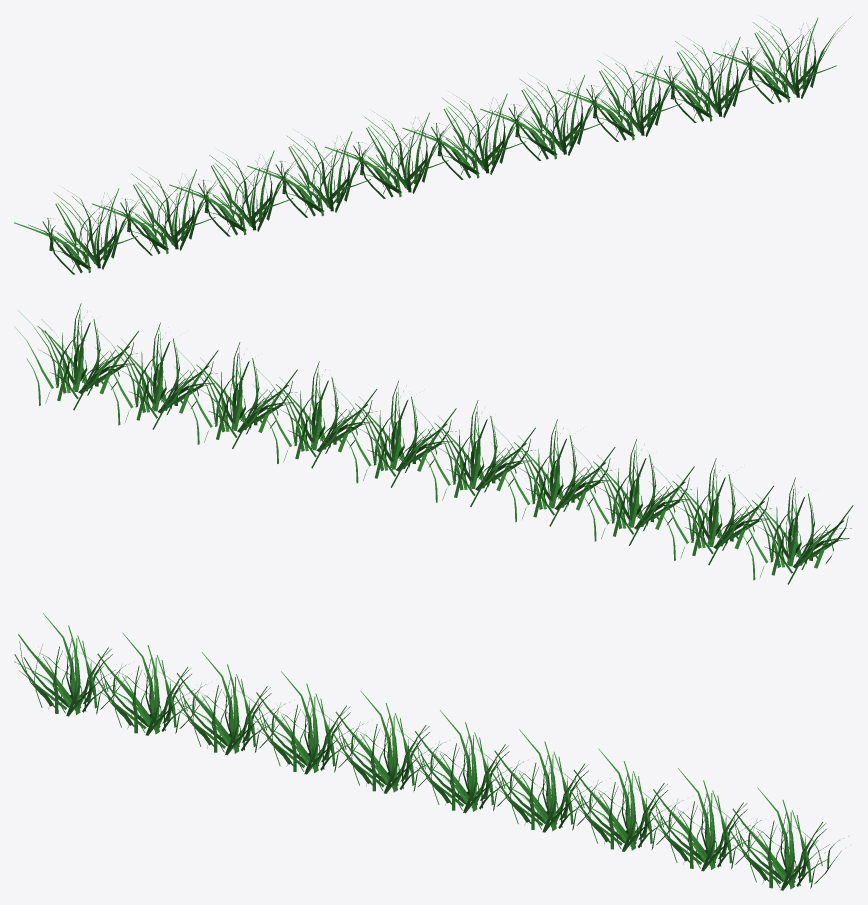
Rendered from RyeGrass.fbx.
3 views of the same model, one above another, from view 1: azimuth 30°, elevation 25°; view 2: azimuth 150°, elevation 25°; view 3: azimuth 330°, elevation 25° (orthographic). The views are drawn at different scales.
Visible parts, largest first — view 1: RyeGrass; view 2: RyeGrass; view 3: RyeGrass.
Part boxes in pixels (<box>): RyeGrass: <box>14,16,851,274</box>; RyeGrass: <box>14,303,853,584</box>; RyeGrass: <box>14,613,848,890</box>.
Bounding box in the file's own units: 721 × 73.48 × 73.4.
